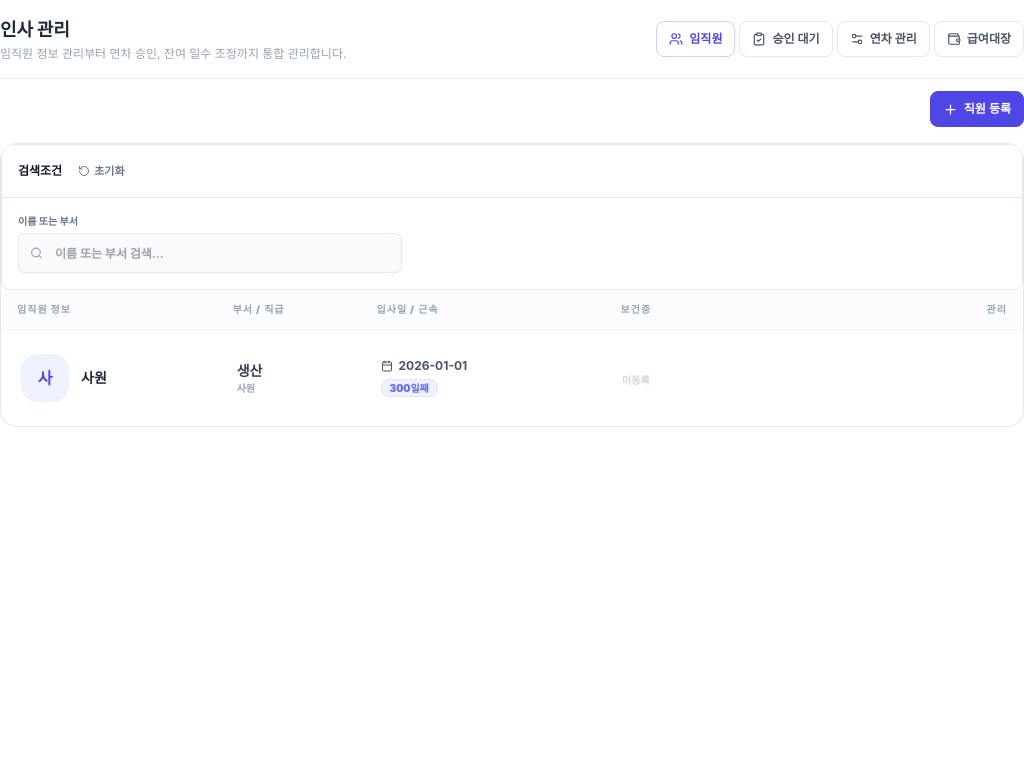
Test: 단체 휴가 저장 결과 계약 › 미확정 단체 요청은 원문으로 재열고 결과 확인 또는 중단만 제공한다
Click the button "연차 관리": (883, 39) [837,21,930,57]
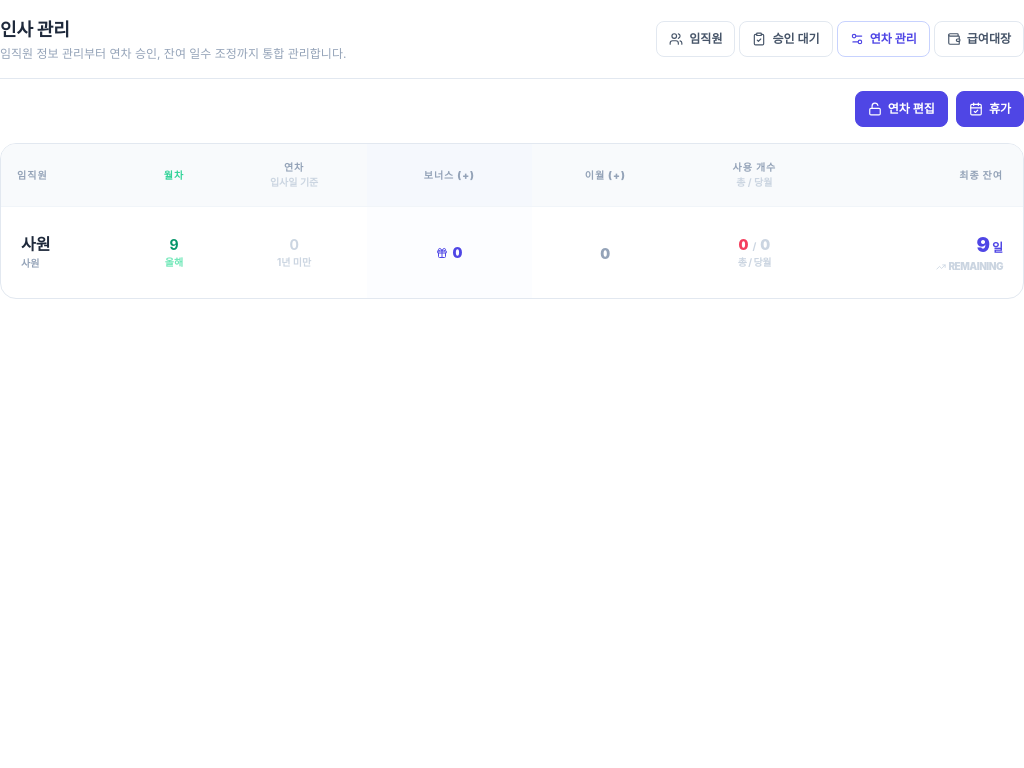
Click the button "휴가": (990, 109) [956,91,1023,127]
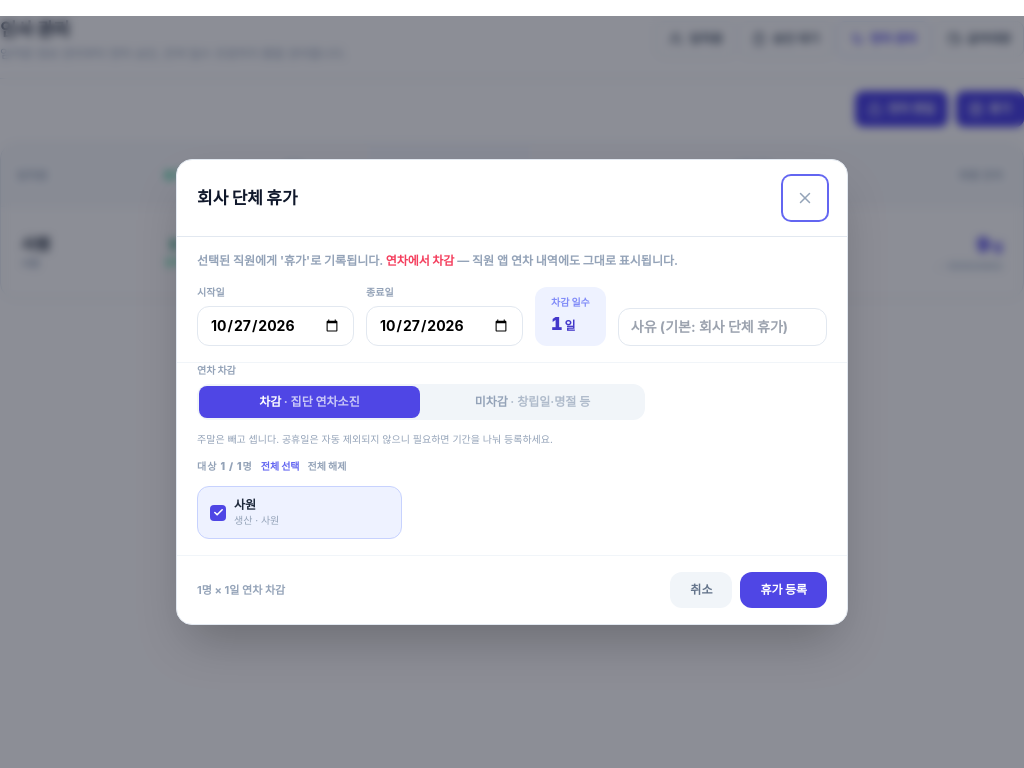
In the date field below "시작일": (276, 326) [197,306,354,346], type "2026-10-19"
In the date field below "종료일": (444, 326) [366,306,523,346], type "2026-10-20"
Click the button "휴가 등록": (784, 590) [740,572,827,608]
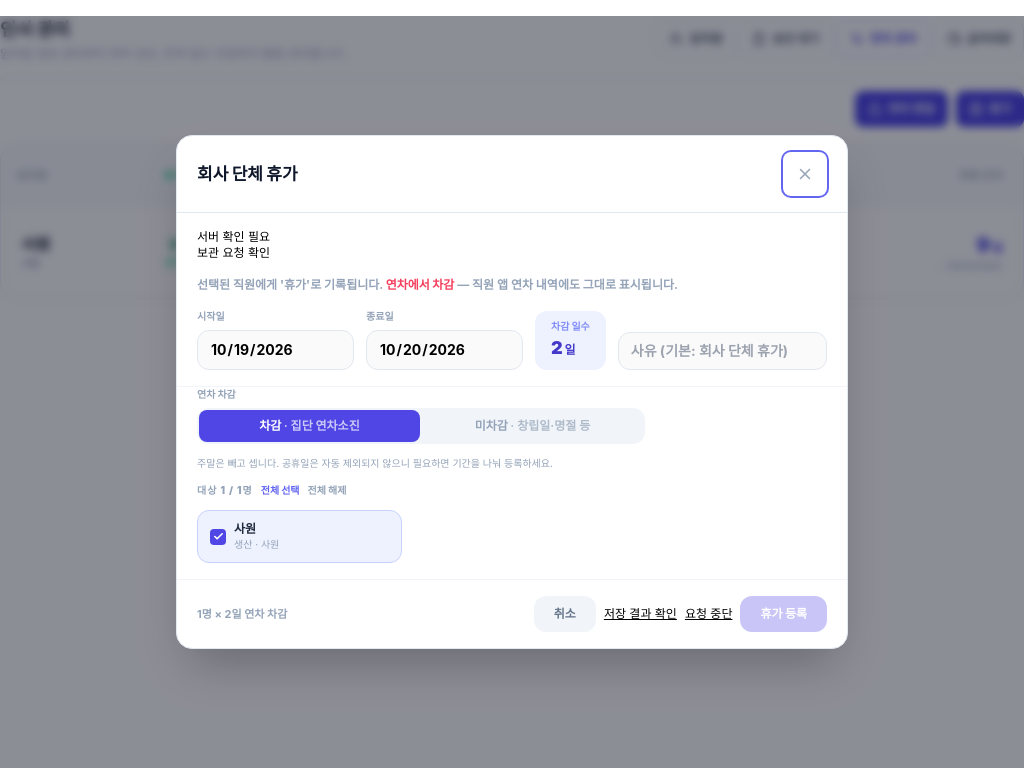
Result: the message shows "서버 확인 필요" at [197,229,270,260]
Click the button "취소": (565, 614) [534,596,596,632]
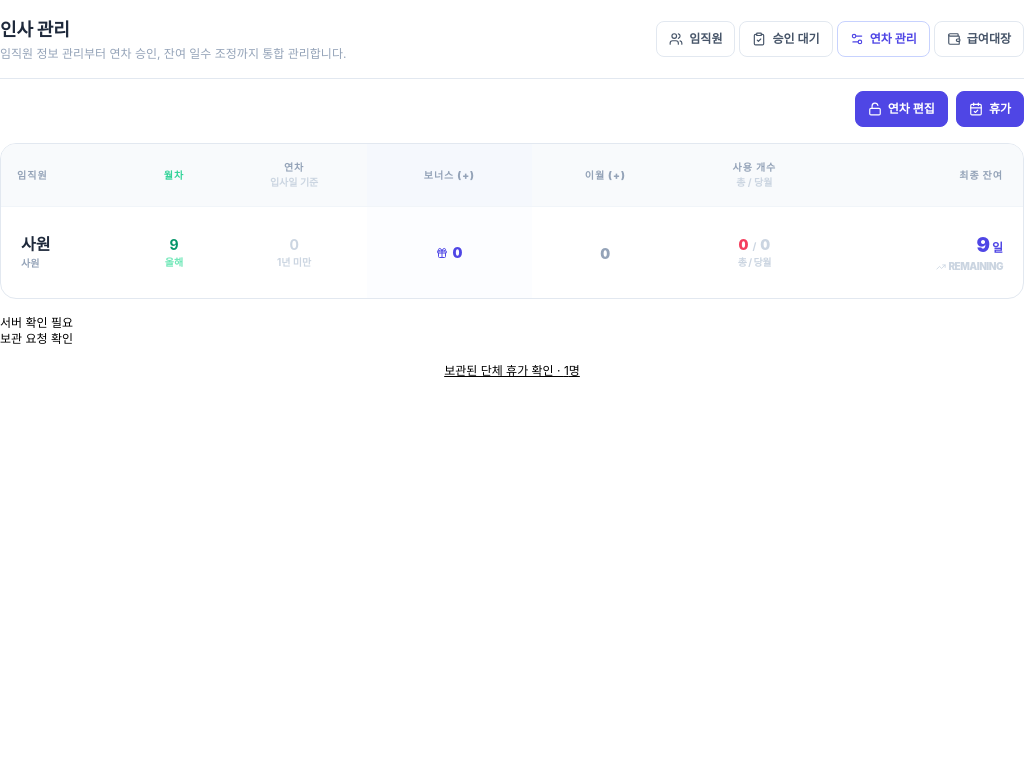
Click the button "보관된 단체 휴가 확인 · 1명": (512, 371) [0,363,1023,379]
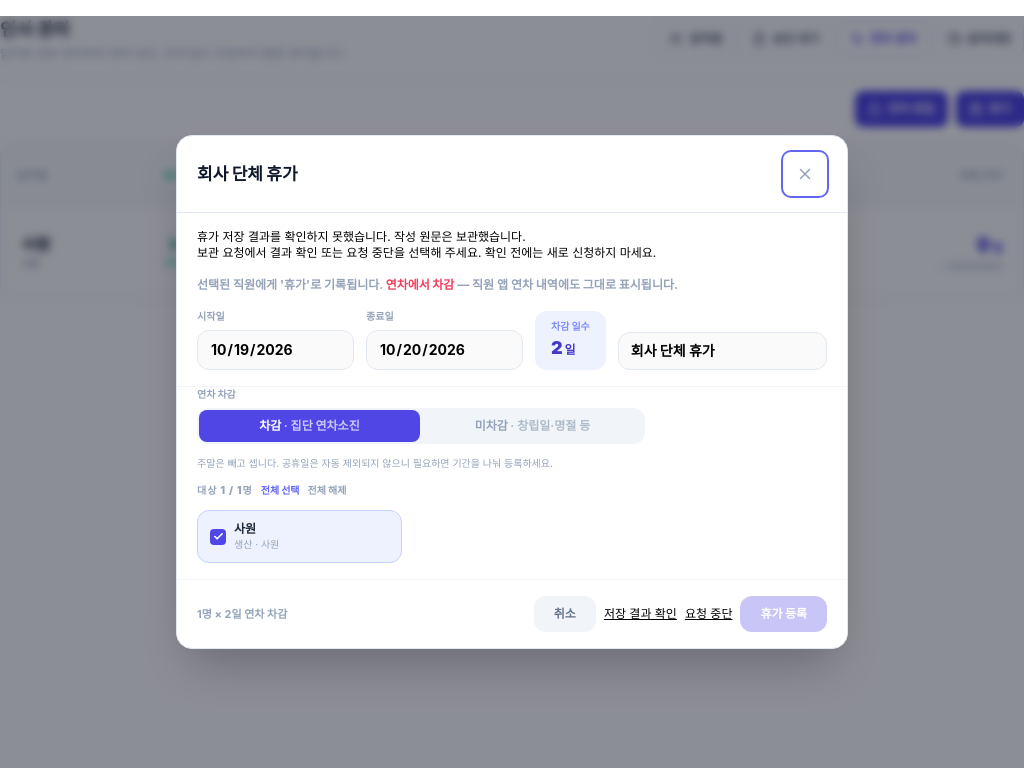
Result: the button "휴가 등록" is disabled at [740,596,827,632]
Result: the date field showing "2026-10-19" below "시작일" is shown at [197,330,354,370]
Click the button "요청 중단": (709, 614) [685,606,732,622]
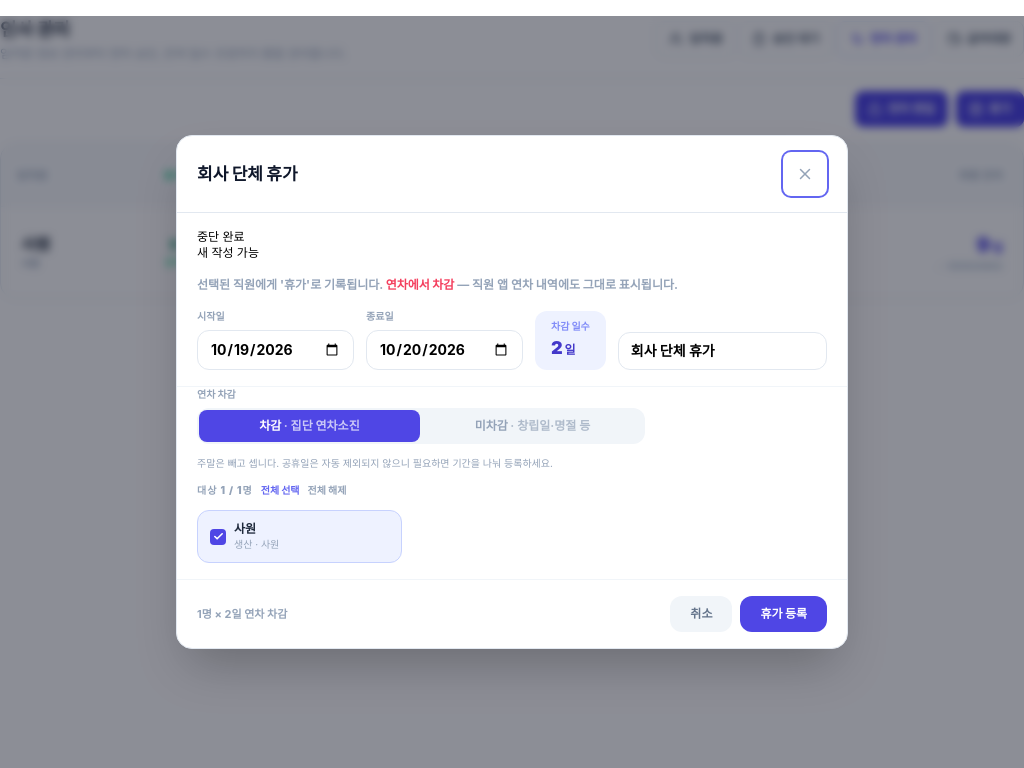
Result: the button "휴가 등록" is enabled at [740,596,827,632]
